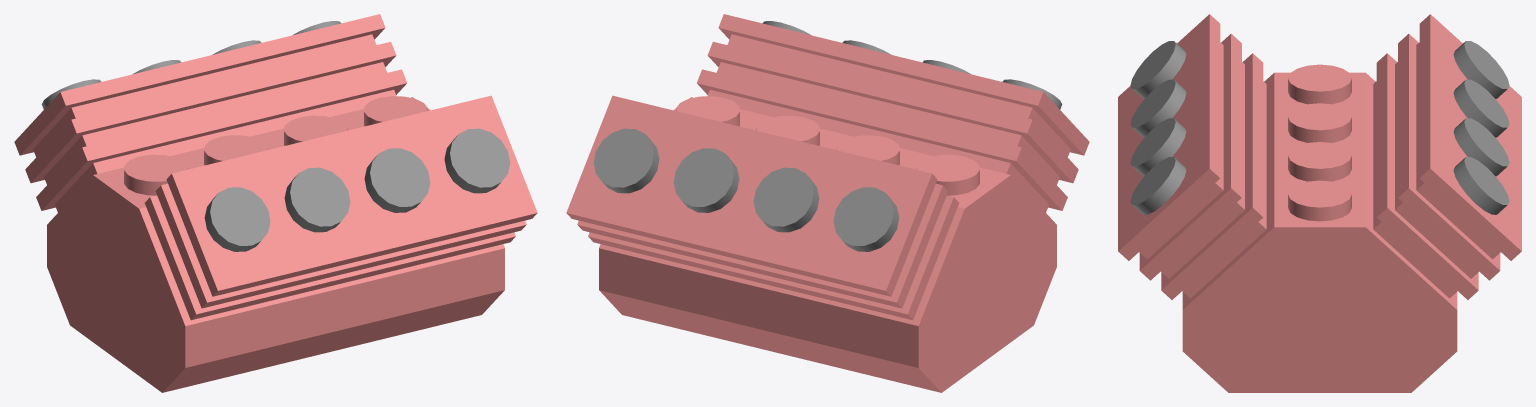
File: SM_DragV8.gltf
3 renders of one model, left to right at view 1: azimuth 30°, elevation 25°; view 2: azimuth 150°, elevation 25°; view 3: azimuth 270°, elevation 25°, orthographic.
Visible parts, largest first — view 1: SM_DragV8; view 2: SM_DragV8; view 3: SM_DragV8.
Part boxes in pixels (x1,y1,x2,y2): SM_DragV8: (14,14,537,392); SM_DragV8: (566,14,1089,392); SM_DragV8: (1118,14,1521,392).
Bounding box in the file's own units: 1.2 × 0.8121 × 1.32.
